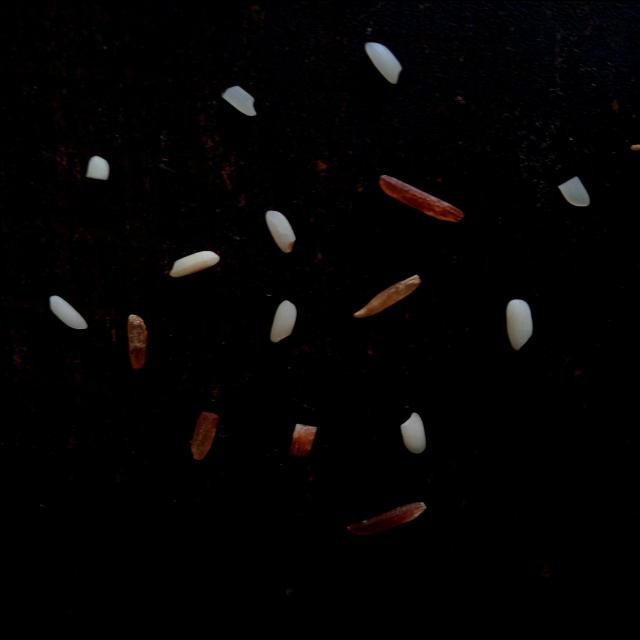Broken: (378, 174, 463, 222), (352, 274, 420, 318), (346, 500, 426, 534), (190, 410, 218, 459), (126, 313, 148, 368), (220, 84, 256, 116), (557, 176, 589, 206), (288, 422, 316, 454)
Full: (364, 42, 402, 84), (505, 298, 532, 350), (264, 210, 296, 252), (169, 250, 219, 276), (49, 294, 87, 328), (270, 299, 296, 342), (400, 412, 426, 452), (85, 155, 109, 179)
